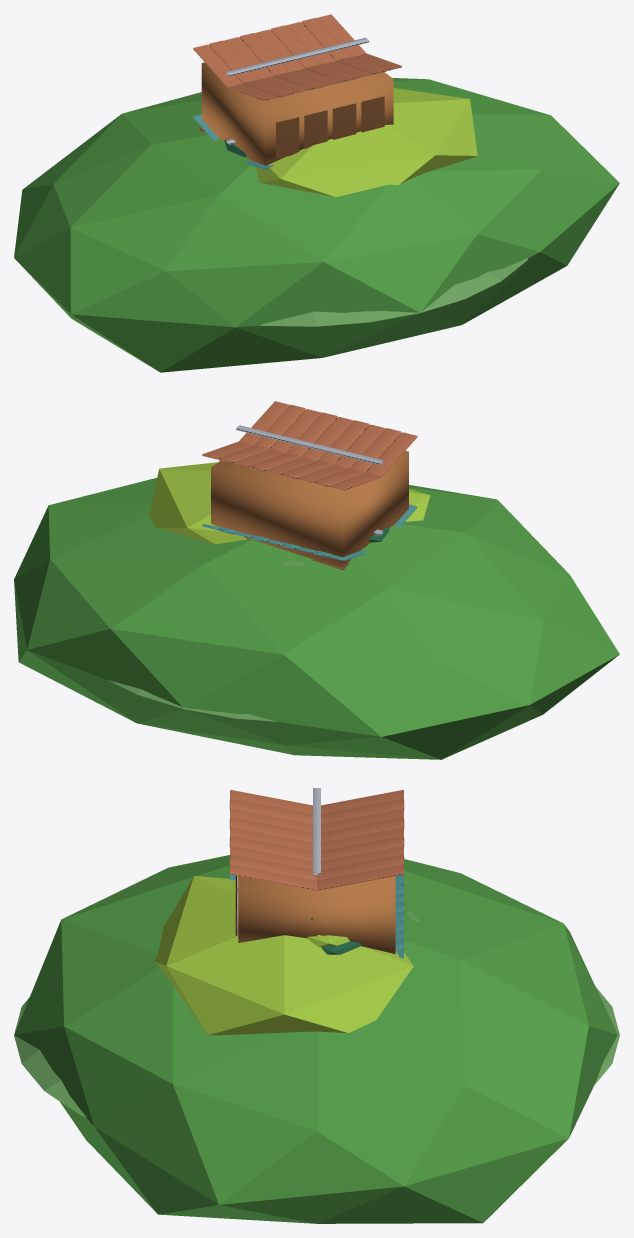
File: world_kit.glb
3 views of the same model, one above another, from view 1: azimuth 30°, elevation 25°; view 2: azimuth 150°, elevation 25°; view 3: azimuth 270°, elevation 25° (orthographic). The views are drawn at different scales.
Parts seen in each view (by area): view 1: Hill, HouseBato, Taal; view 2: Hill, HouseBato, HouseMint, Taal; view 3: Hill, HouseBato, Taal, HouseMint, TreeAcacia.
Part boxes in pixels (box(x1,y1,x2,y2)): Hill: box(14, 78, 619, 372); HouseBato: box(193, 14, 401, 165); Taal: box(259, 258, 528, 326); Hill: box(14, 462, 619, 759); HouseBato: box(202, 401, 417, 570); HouseMint: box(202, 504, 417, 560); Taal: box(108, 560, 304, 721); Hill: box(14, 855, 617, 1223); HouseBato: box(229, 788, 404, 954); Taal: box(14, 911, 619, 1117); HouseMint: box(230, 874, 404, 958); TreeAcacia: box(307, 935, 361, 954).
Size of the model in its own units: 19.21 by 9.36 by 15.
